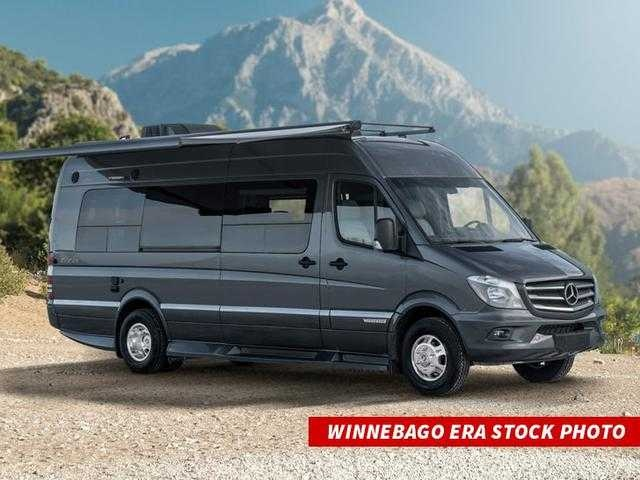van: (46, 131, 606, 397)
